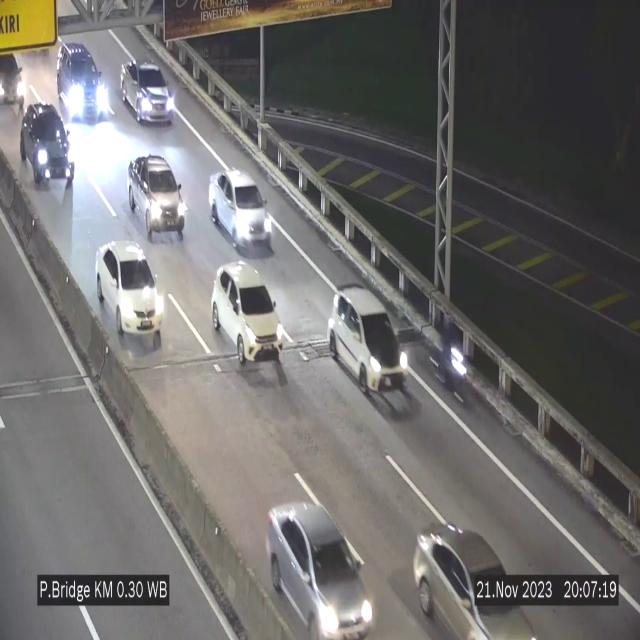Car: (407, 508, 551, 640), (264, 493, 376, 640), (328, 286, 413, 398), (212, 263, 282, 365), (96, 242, 162, 348), (208, 169, 274, 252), (22, 104, 78, 196), (128, 156, 186, 243), (52, 38, 104, 128), (120, 58, 176, 122), (0, 47, 25, 109)
Motorcycle: (432, 315, 468, 409)
